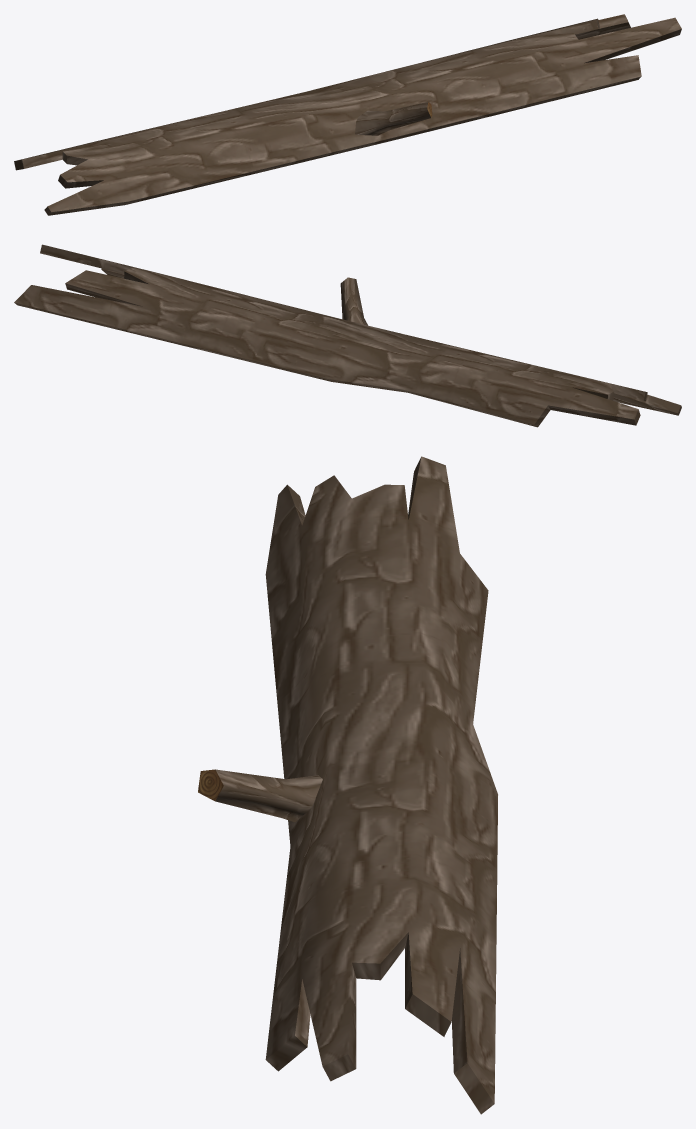
The model's file is Tree_Fall5.fbx.
3 renders of one model, top to bottom at view 1: azimuth 30°, elevation 25°; view 2: azimuth 150°, elevation 25°; view 3: azimuth 270°, elevation 25°, orthographic. The views are drawn at different scales.
Parts seen in each view (by area): view 1: polySurface507; view 2: polySurface507; view 3: polySurface507.
Boxes of the visible parts, box(x1,y1,x2,y2) form: polySurface507: box(14, 14, 681, 215); polySurface507: box(14, 244, 681, 427); polySurface507: box(198, 456, 497, 1114).
Bounding box in the file's own units: 4.19 × 0.3256 × 0.8729.
1 material, 1 textured.
